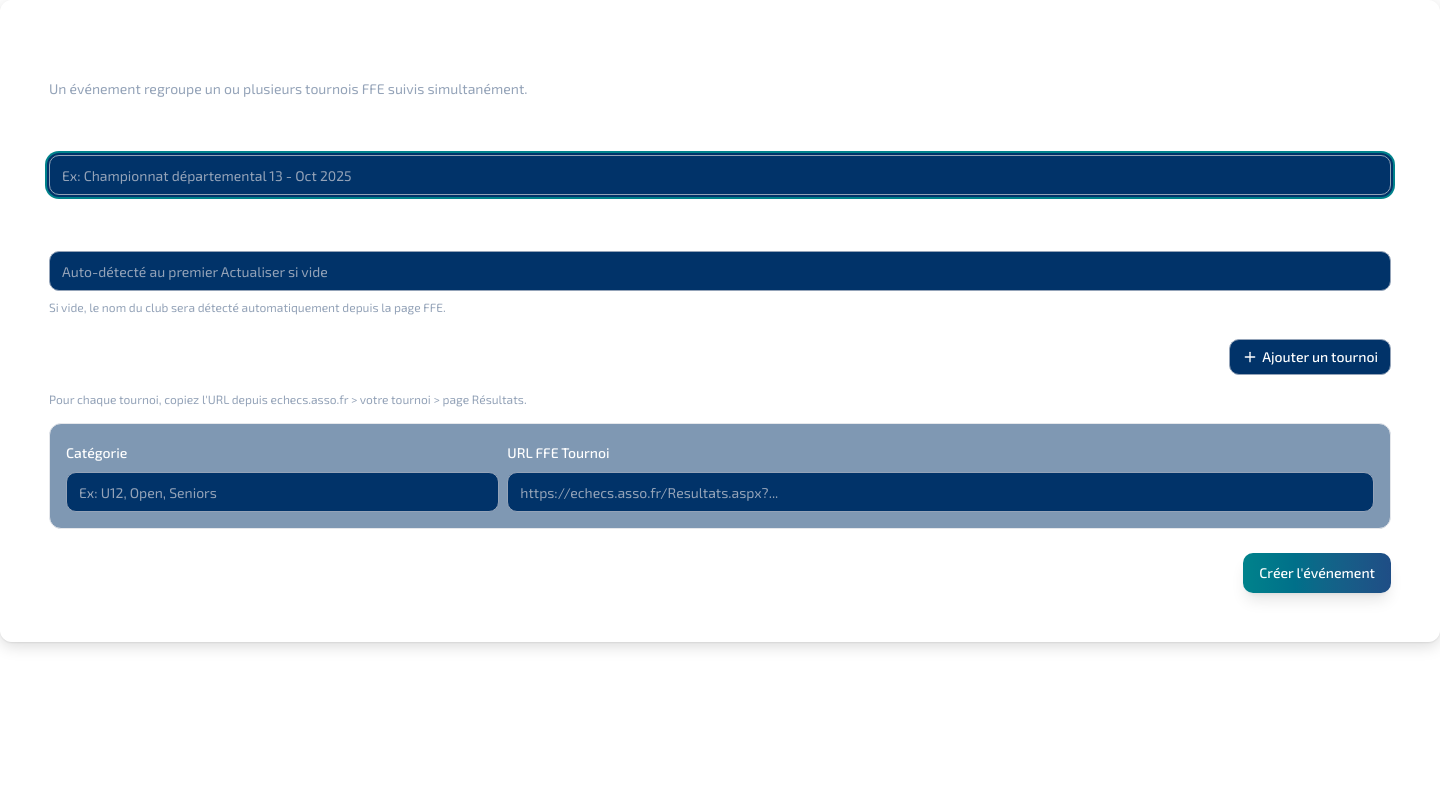
EventForm › Validation alignment with validation.ts › rejects URL without protocol
Type "Test Event" into the field with placeholder "Ex: Championnat départemental 13 - Oct 2025" at (720, 175), box [49,155,1391,195]
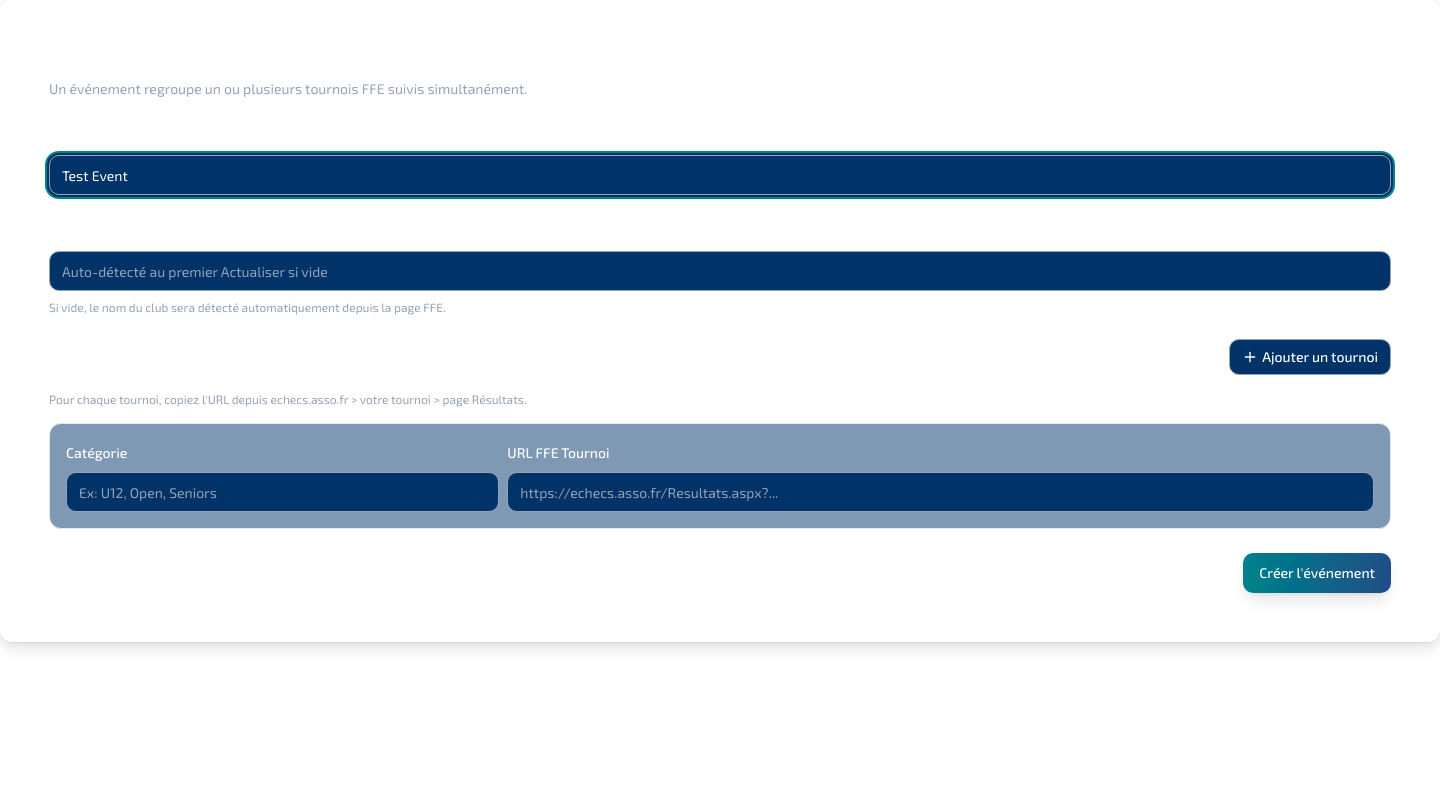
Type "U12" into the field labelled "Catégorie" at (283, 492), box [66,472,499,512]
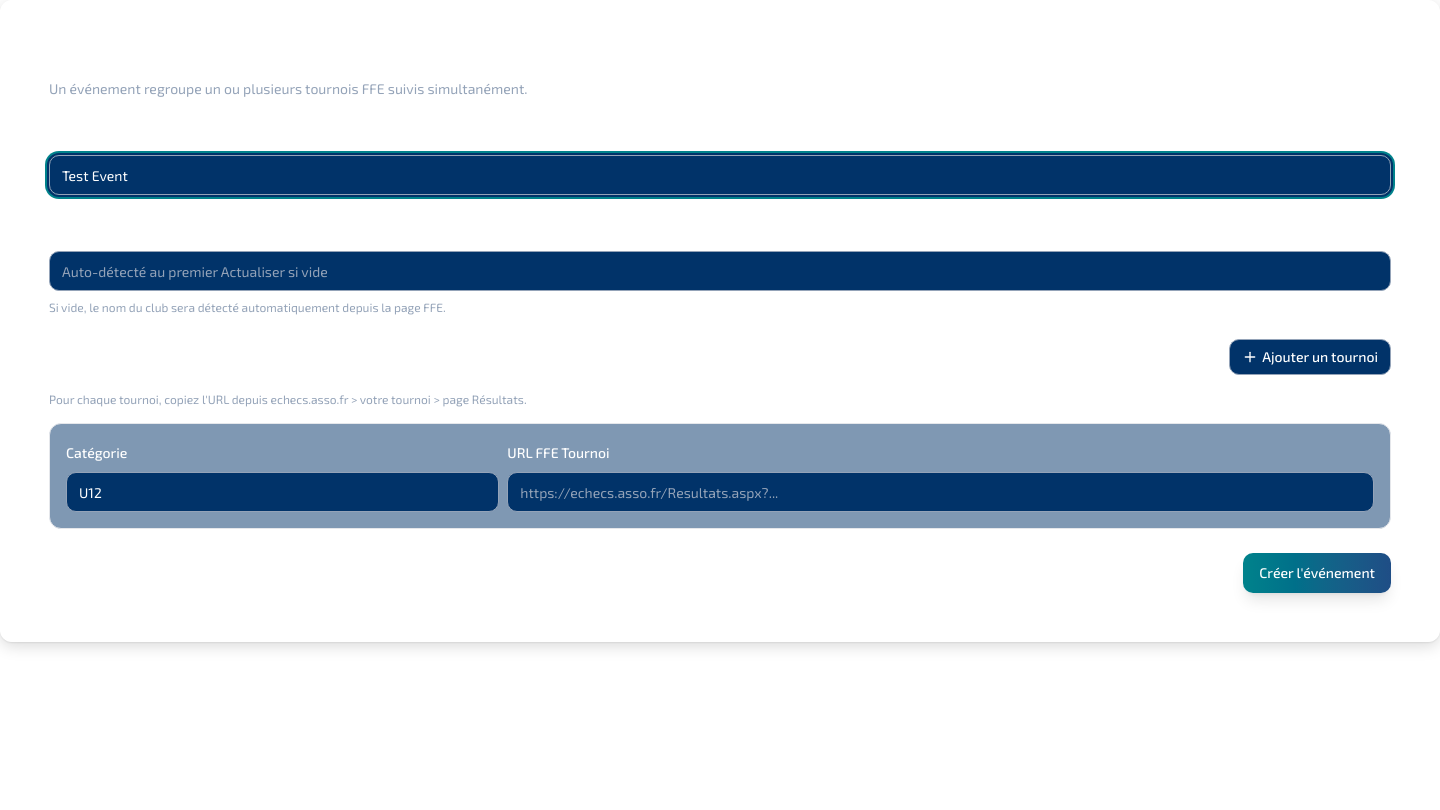
Type "echecs.asso.fr/Resultats.aspx" into the field with placeholder "https://echecs.asso.fr/Resultats.aspx?..." at (941, 492), box [507,472,1374,512]
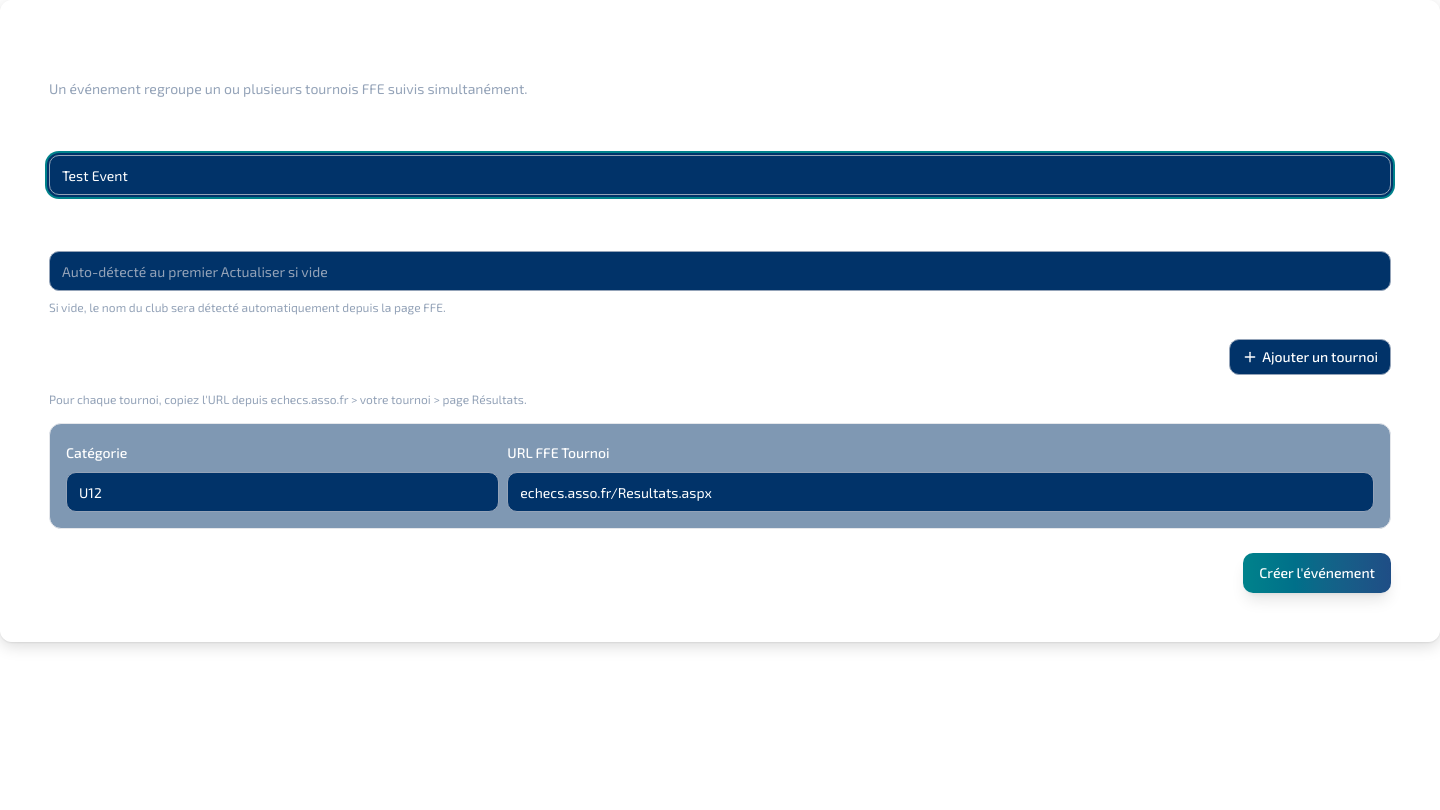
Submit the form named "créer l'événement", box [49,123,1391,593]
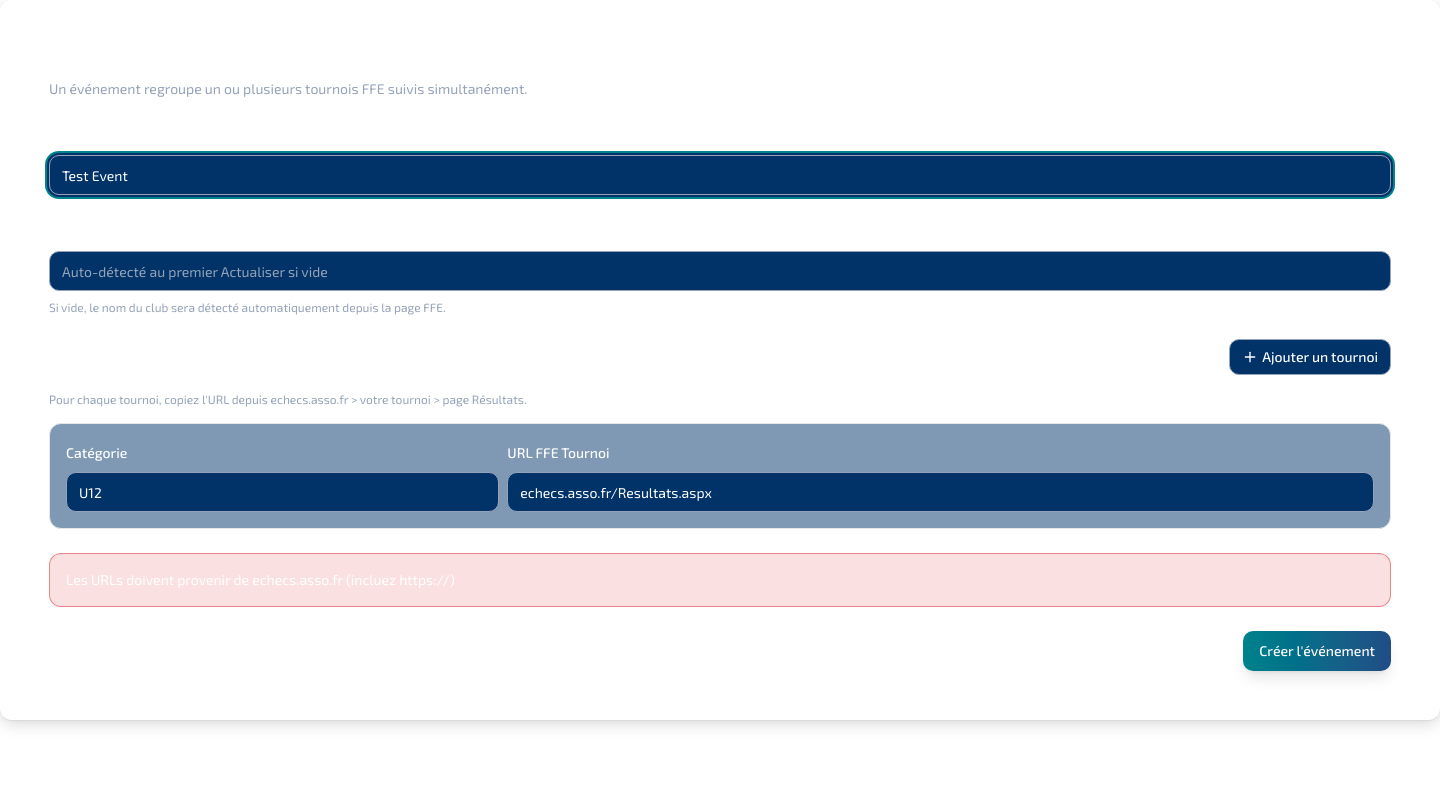
Check: the text "Les URLs doivent provenir de echecs.asso.fr" is shown, box [66,571,455,588]
